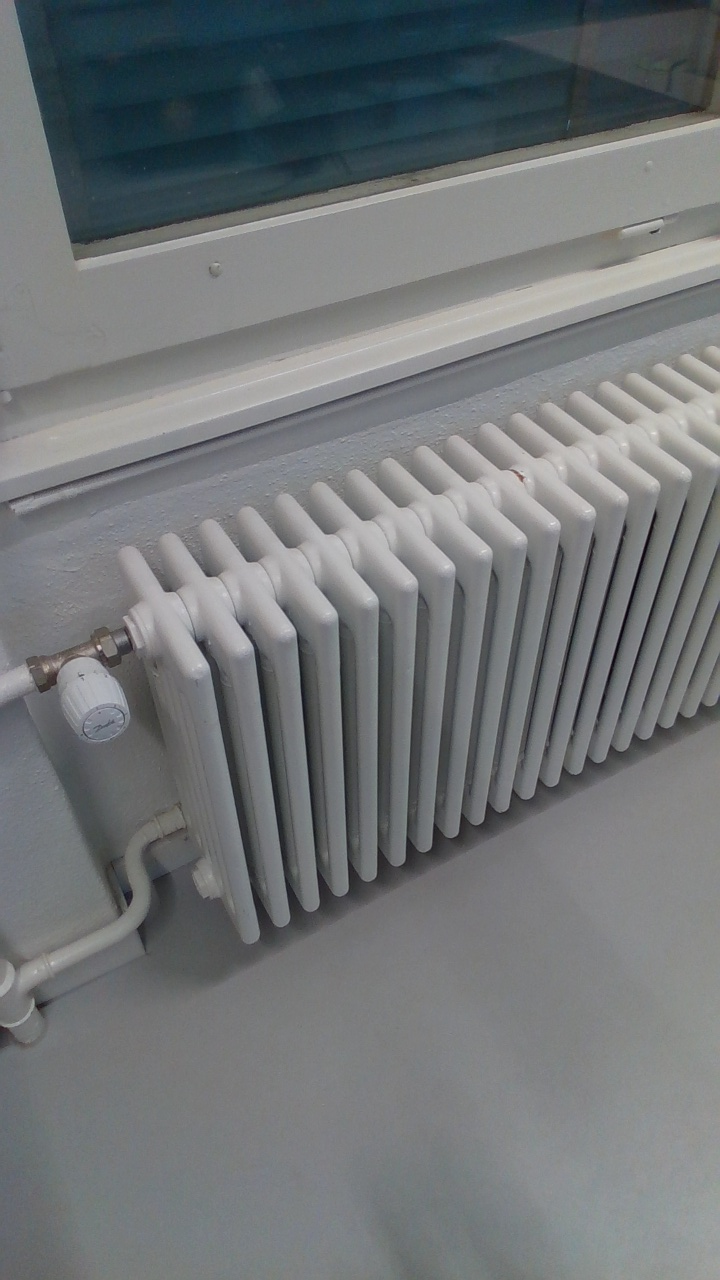Knob_Radiator: (32, 640, 141, 752)
Radiator: (101, 321, 720, 963)
